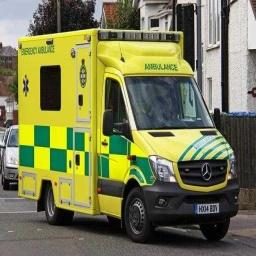Ambulance: (18, 29, 238, 241)
